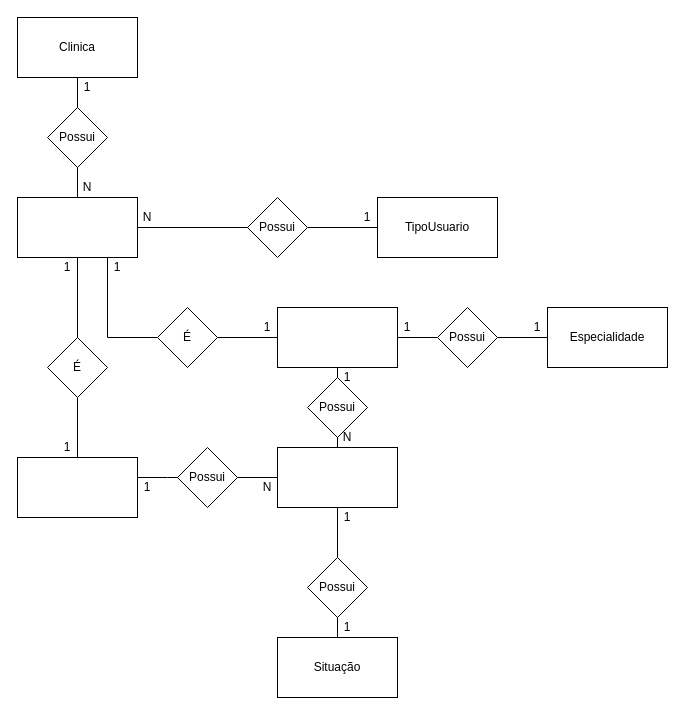
Image size: 685x715. Some labels were removed from this diagram. The centre of each missing label's shape, as x and y in pixels:
Consulta: point (337, 477)
Médico: point (337, 337)
Paciente: point (77, 487)
Usuário: point (77, 227)
